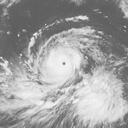cyclone: (39, 45, 84, 84)
